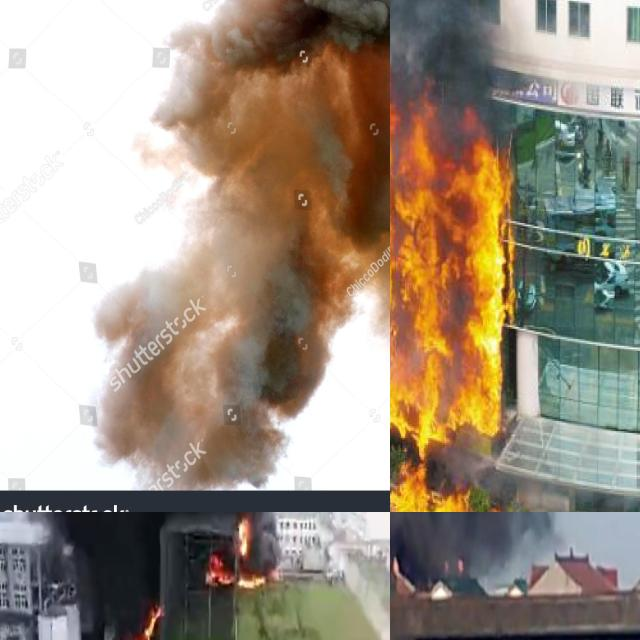fire: (390, 52, 512, 512), (117, 604, 159, 640), (207, 553, 230, 586), (239, 569, 267, 591), (237, 517, 250, 553)
smoke: (89, 0, 390, 494), (6, 512, 305, 640), (390, 512, 640, 573), (390, 0, 500, 100)
